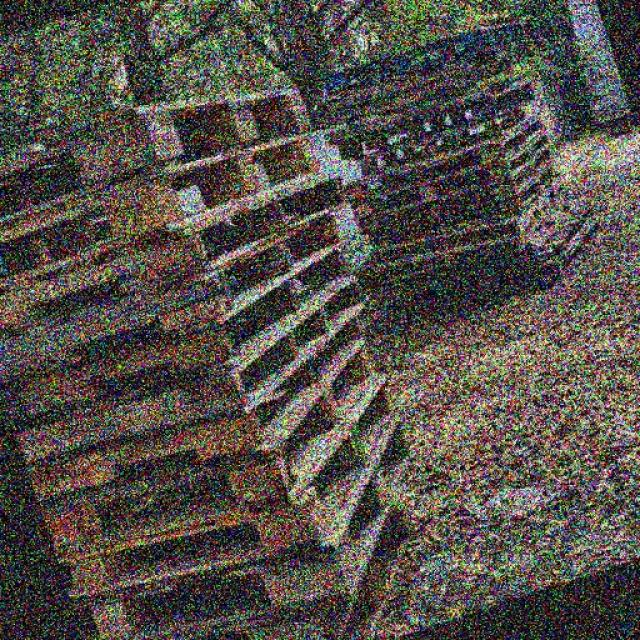non-igps: (26, 328, 399, 579), (53, 364, 414, 613), (0, 223, 385, 450), (75, 401, 430, 640), (16, 293, 385, 521), (5, 262, 383, 479), (0, 193, 371, 404), (0, 168, 358, 358), (0, 115, 350, 305), (0, 75, 324, 233), (178, 444, 436, 640), (349, 134, 565, 241), (338, 104, 554, 209), (346, 122, 562, 226), (364, 167, 570, 276), (316, 55, 540, 152), (333, 62, 541, 166), (362, 152, 563, 255), (328, 31, 518, 130), (319, 14, 532, 99), (356, 94, 531, 182), (534, 199, 604, 300), (550, 208, 610, 295)
